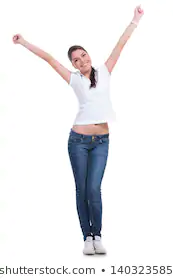person: (49, 40, 123, 117)
